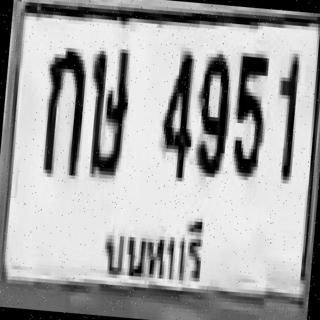A01: (38, 43, 88, 176)
A39: (82, 43, 132, 176)
N01: (270, 49, 301, 180)
N04: (156, 46, 197, 178)
N05: (228, 49, 270, 177)
N09: (191, 49, 232, 174)
P37: (92, 197, 221, 298)
